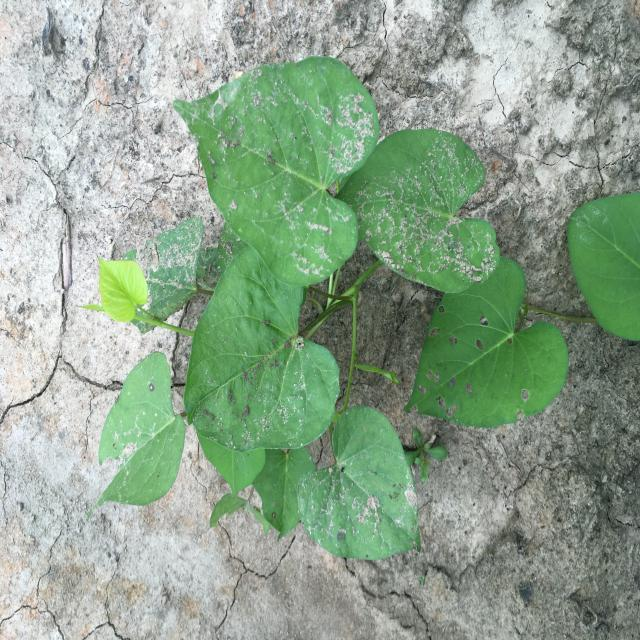MorningGlory: (76, 55, 640, 561)
